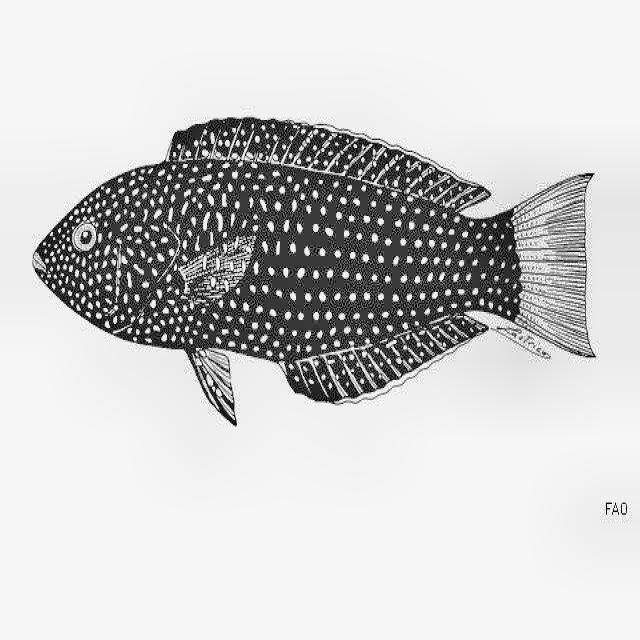fish: (32, 114, 597, 428)
